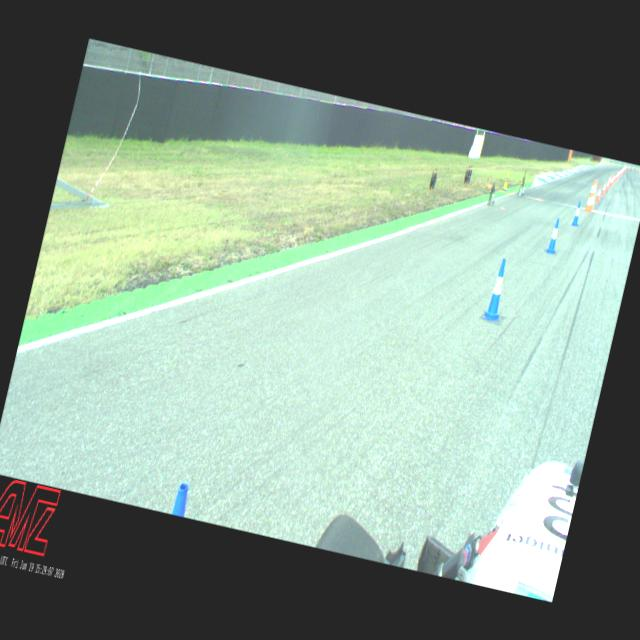blue_cone: (482, 256, 511, 322), (545, 217, 562, 254), (570, 200, 582, 227)
large_orange_cone: (584, 179, 598, 212), (588, 180, 600, 210)
orange_cone: (594, 185, 602, 202), (601, 182, 607, 194), (607, 174, 611, 186), (609, 176, 613, 186), (610, 176, 614, 186), (606, 180, 610, 190), (611, 175, 615, 184), (613, 173, 617, 182)
yellow_cone: (502, 172, 510, 190)
